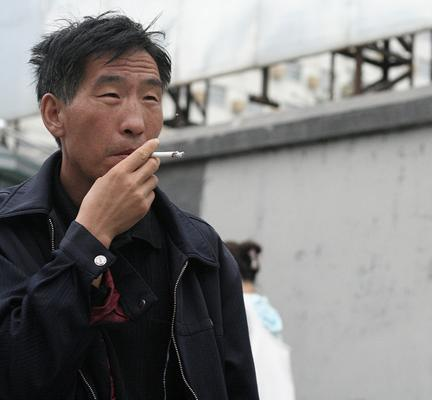person: (5, 11, 261, 400)
